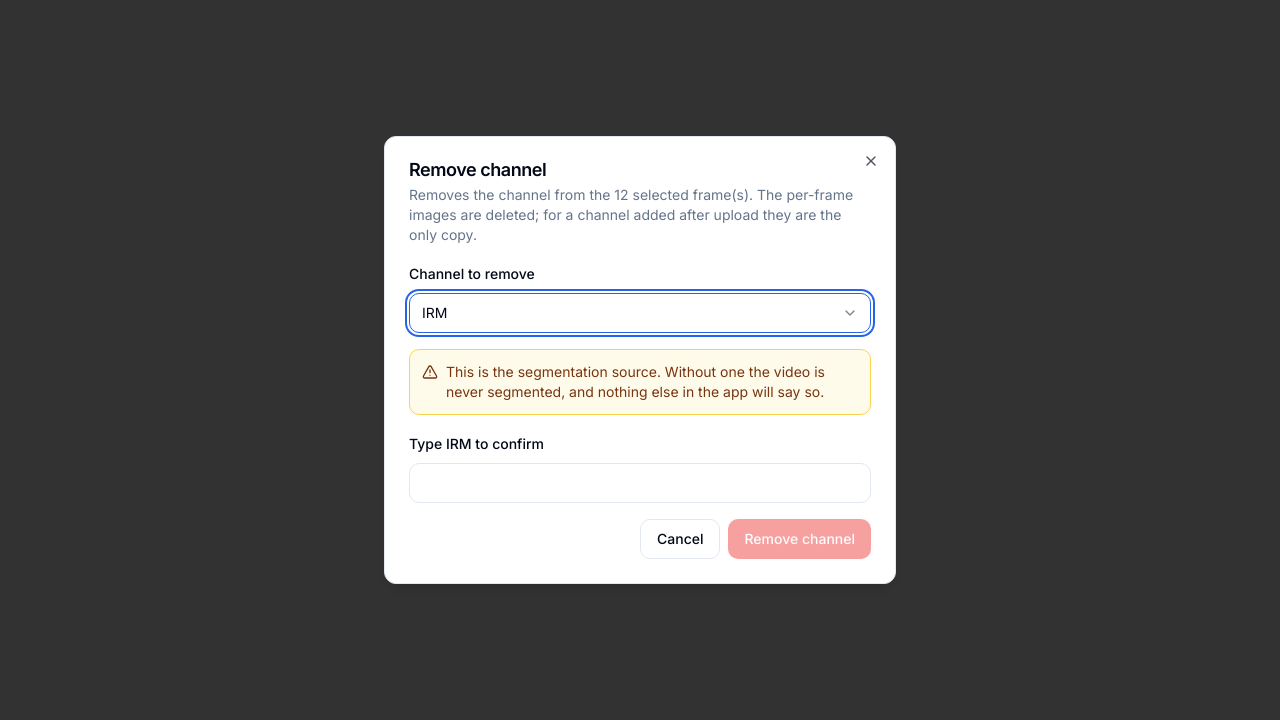
RemoveChannelDialog › keeps confirm disabled until the channel name is typed exactly
This screenshot has width=1280, height=720.
Expected: the button with test id "remove-channel-confirm" is disabled, [728, 519, 871, 559]
Type "IR" into the field with test id "remove-channel-typed" at (640, 483), box [409, 463, 871, 503]
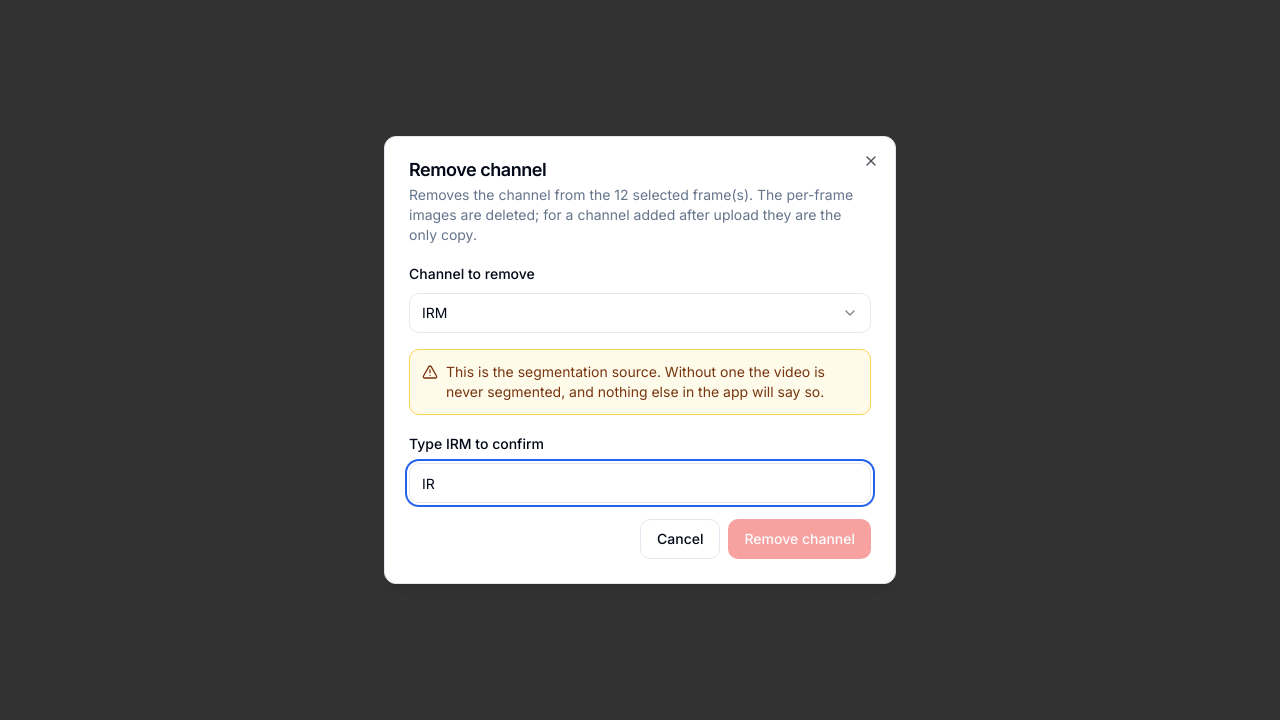
Expected: the button with test id "remove-channel-confirm" is disabled, [728, 519, 871, 559]
Type "M" into the field with test id "remove-channel-typed" at (640, 483), box [409, 463, 871, 503]
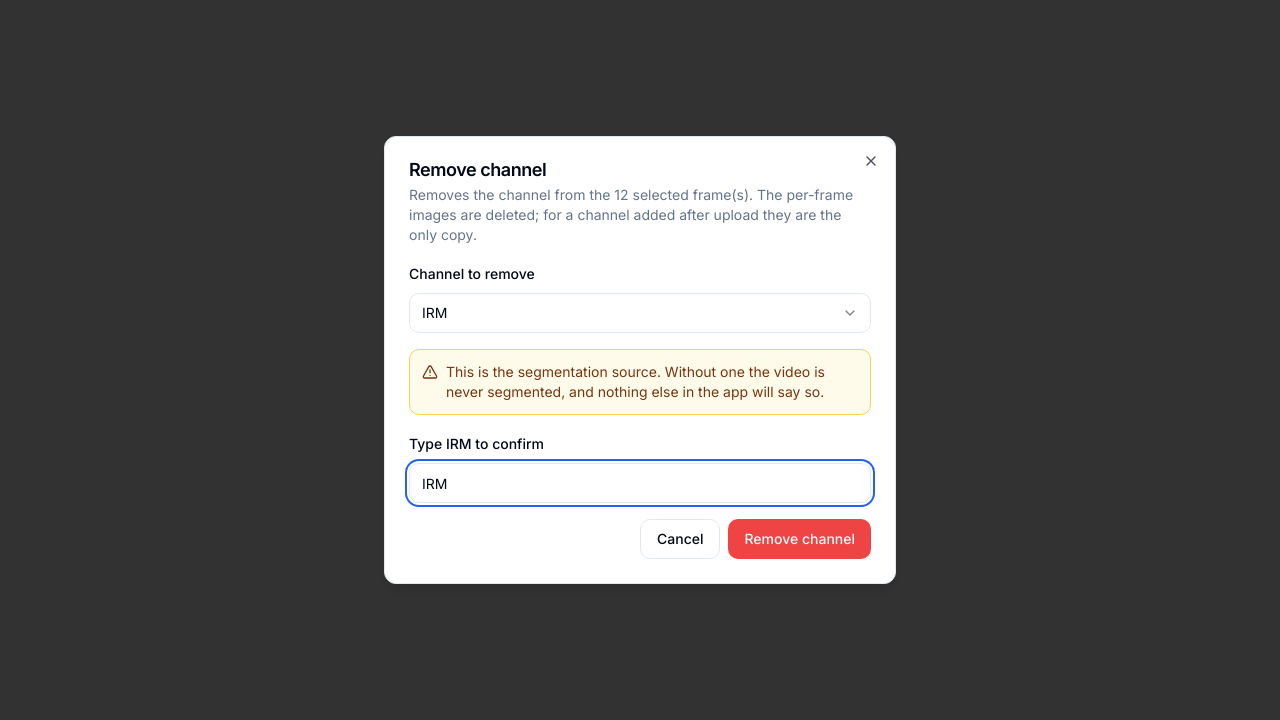
Result: the button with test id "remove-channel-confirm" is enabled at [728, 519, 871, 559]
